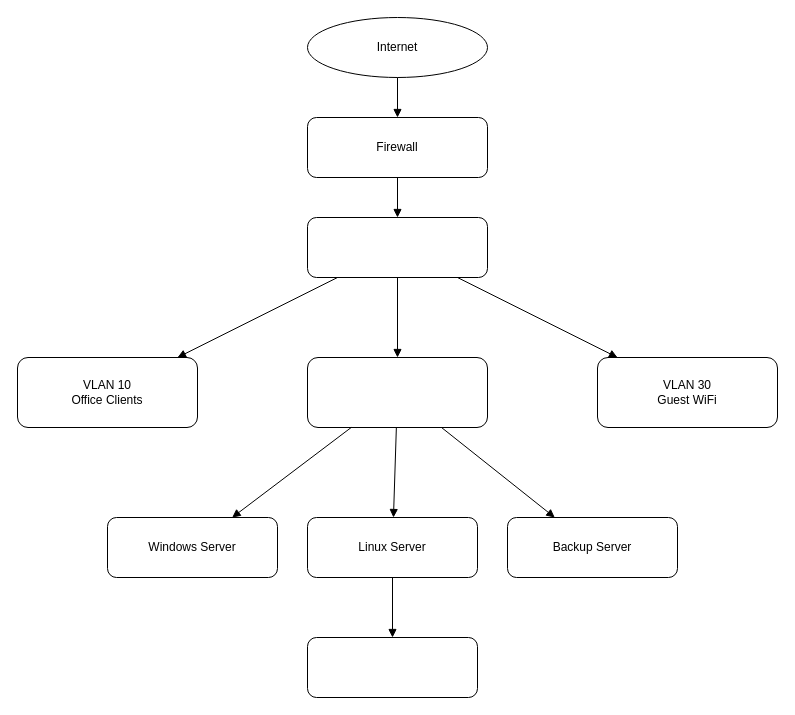
Image size: 795x715. Some labels were removed from this diagram. Each missing label, with the centre of its shape:
"Managed Switch" belongs at point 397,247.
"Monitoring" belongs at point 392,667.
"VLAN 20 Servers" belongs at point 397,392.
